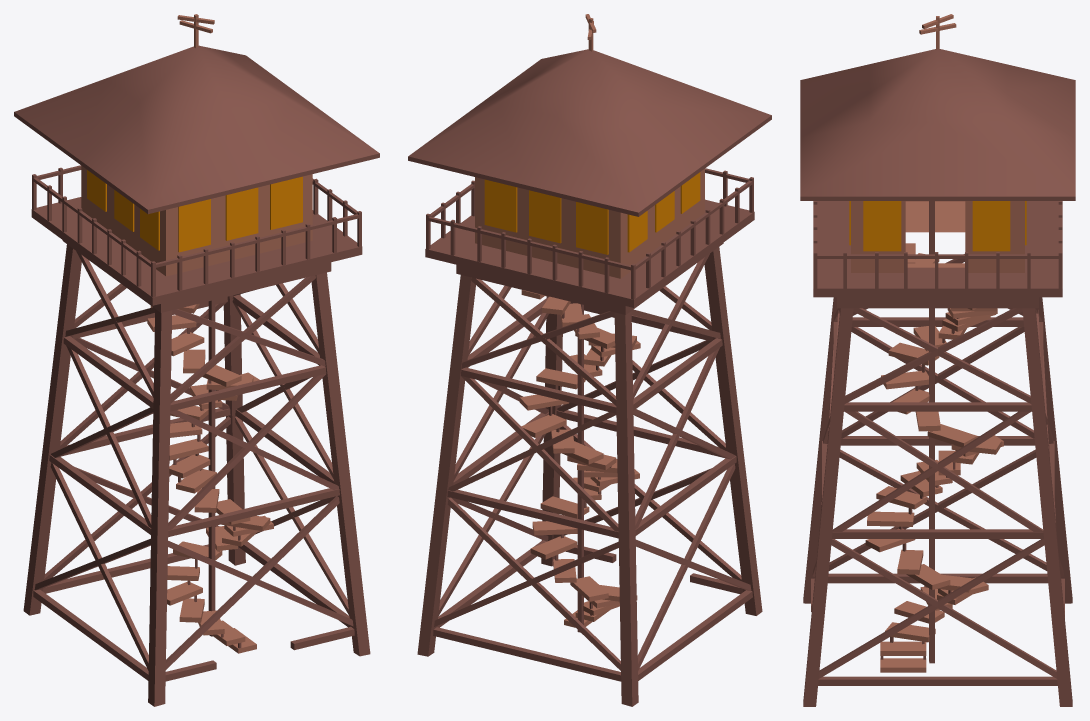
File: Watchtower (1).fbx
The picture shows the model from 3 angles, left to right: view 1: azimuth 30°, elevation 25°; view 2: azimuth 150°, elevation 25°; view 3: azimuth 270°, elevation 25°; orthographic projection. The views are drawn at different scales.
Visible parts, largest first — view 1: crossdetail, Roof, Base, Leg3, House, Leg, Leg2, Leg1, window (×2), window1 (×2), window2 (×2), Bottom (+5 smaller); view 2: crossdetail, Roof, Base, Leg2, House, Leg1, Leg3, window2 (×2), window1 (×2), window (×2), Bottom, Rail (×2) (+5 smaller); view 3: Roof, crossdetail, Base, House, Leg1, Leg, Bottom, Leg3, Leg2, window1, window2, middle_pole (+12 smaller).
Part boxes in pixels (bbox=[...]): crossdetail: bbox=[33, 251, 354, 681]; Roof: bbox=[14, 45, 379, 214]; Base: bbox=[31, 197, 362, 305]; Leg3: bbox=[148, 309, 172, 706]; House: bbox=[81, 166, 312, 276]; Leg: bbox=[311, 272, 370, 656]; Leg2: bbox=[23, 244, 81, 615]; Leg1: bbox=[223, 294, 245, 565]; window (×2): bbox=[114, 187, 258, 240]; window1 (×2): bbox=[140, 176, 302, 250]; window2 (×2): bbox=[87, 170, 210, 252]; Bottom: bbox=[62, 240, 331, 312]; crossdetail: bbox=[433, 254, 752, 681]; Roof: bbox=[408, 49, 771, 216]; Base: bbox=[425, 199, 754, 307]; Leg2: bbox=[614, 311, 638, 706]; House: bbox=[475, 169, 704, 278]; Leg1: bbox=[417, 275, 475, 656]; Leg3: bbox=[704, 247, 762, 615]; window2 (×2): bbox=[576, 202, 647, 254]; window1 (×2): bbox=[484, 172, 700, 232]; window (×2): bbox=[529, 190, 674, 243]; Bottom: bbox=[456, 243, 723, 314]; Rail (×2): bbox=[426, 180, 753, 270]; Roof: bbox=[800, 49, 1075, 200]; crossdetail: bbox=[811, 254, 1064, 685]; Base: bbox=[813, 201, 1062, 297]; House: bbox=[851, 201, 1024, 272]; Leg1: bbox=[1022, 308, 1072, 706]; Leg: bbox=[803, 308, 853, 706]; Bottom: bbox=[837, 297, 1038, 308]; Leg3: bbox=[803, 297, 837, 603]; Leg2: bbox=[1039, 297, 1072, 603]; window1: bbox=[863, 201, 901, 251]; window2: bbox=[972, 201, 1010, 251]; middle_pole: bbox=[929, 201, 934, 663].
Size of the model in its own units: 20.01 by 51.28 by 20.01.
